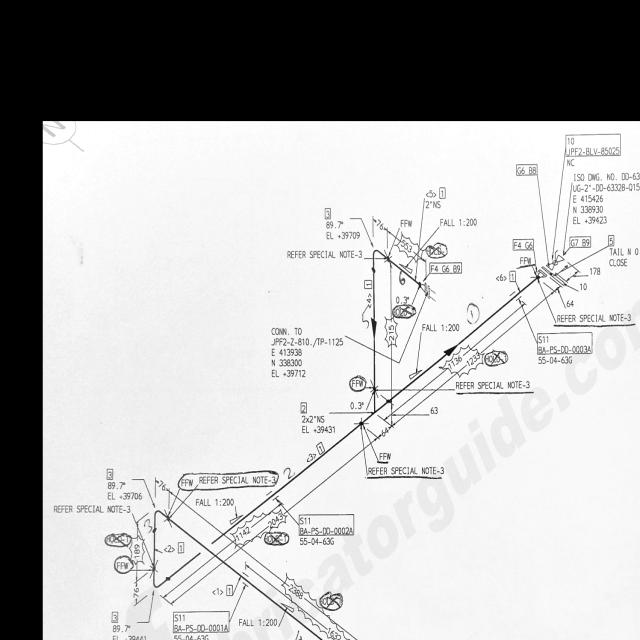Item number: (537, 330, 594, 359), (189, 471, 279, 488), (172, 609, 230, 635), (564, 133, 622, 158), (298, 513, 355, 537), (429, 260, 462, 275), (516, 162, 538, 177), (513, 237, 534, 251), (570, 235, 591, 249), (496, 271, 516, 283), (376, 452, 390, 464), (316, 440, 325, 456), (225, 583, 235, 596), (438, 185, 446, 200), (106, 468, 114, 480), (608, 233, 615, 246), (177, 541, 184, 554), (364, 279, 372, 290), (300, 401, 307, 413), (112, 611, 119, 623), (324, 208, 331, 220)
Measrement: (168, 436, 381, 608), (169, 485, 361, 639), (386, 289, 560, 432), (380, 301, 528, 423), (229, 498, 284, 545), (375, 216, 424, 263), (387, 262, 398, 400), (364, 422, 393, 449), (133, 513, 141, 605), (300, 415, 334, 434), (155, 476, 177, 499), (325, 217, 346, 232), (107, 481, 129, 492), (590, 265, 601, 277), (576, 281, 587, 292), (430, 407, 438, 415)
Pipeline: (205, 245, 544, 547), (150, 503, 327, 639), (159, 519, 199, 581)
Symbol: (360, 387, 394, 427), (532, 249, 570, 283), (415, 275, 442, 305), (149, 561, 169, 591), (372, 244, 391, 272), (154, 504, 172, 533), (367, 313, 379, 335)
Weld number: (261, 529, 291, 547), (320, 591, 344, 613), (483, 348, 509, 367), (104, 531, 131, 549), (113, 555, 134, 575), (466, 300, 481, 327), (394, 303, 416, 320), (348, 374, 367, 393), (428, 241, 448, 259)
other: (268, 326, 344, 377), (569, 170, 639, 225), (282, 245, 367, 264), (553, 311, 634, 327), (365, 465, 444, 480), (455, 380, 534, 394), (57, 504, 131, 515), (437, 214, 482, 232), (609, 245, 639, 268), (300, 415, 336, 434), (238, 617, 280, 628), (195, 498, 235, 508), (325, 231, 362, 241), (300, 537, 336, 546), (117, 634, 147, 639)
